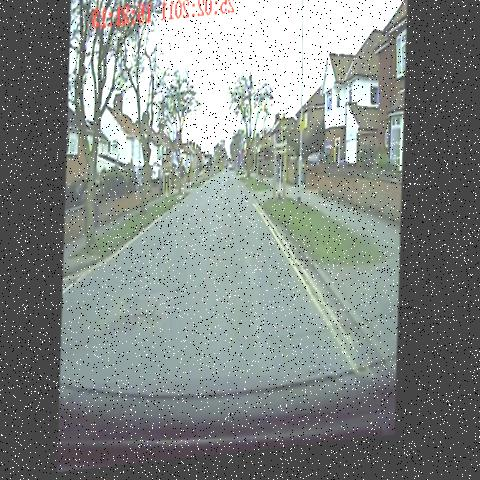pothole: (94, 276, 188, 361)
